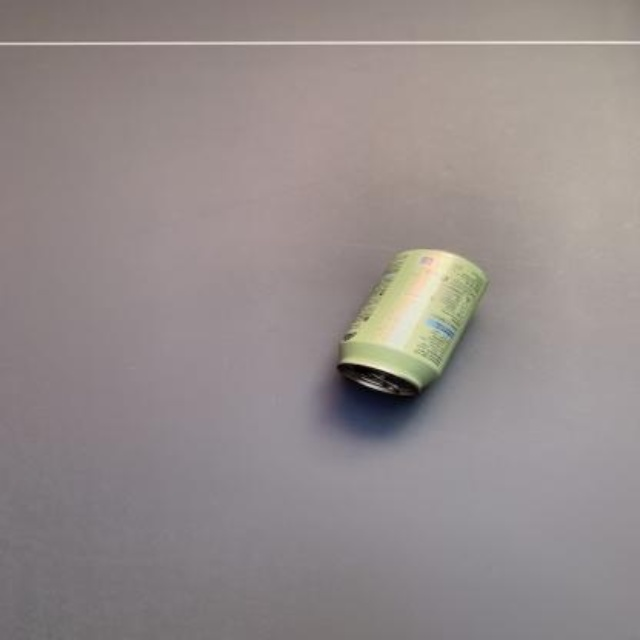trash: (337, 248, 488, 395)
